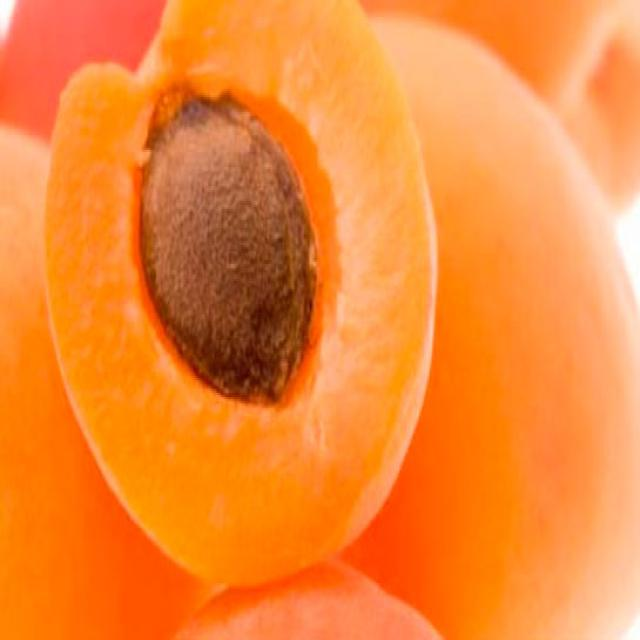Cekirdek: (142, 97, 316, 401)
Kayisi: (46, 0, 433, 583)
